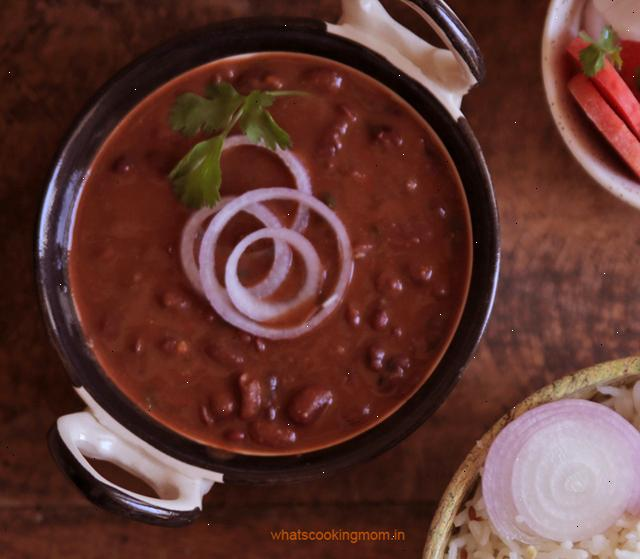rajma: (94, 57, 486, 434)
